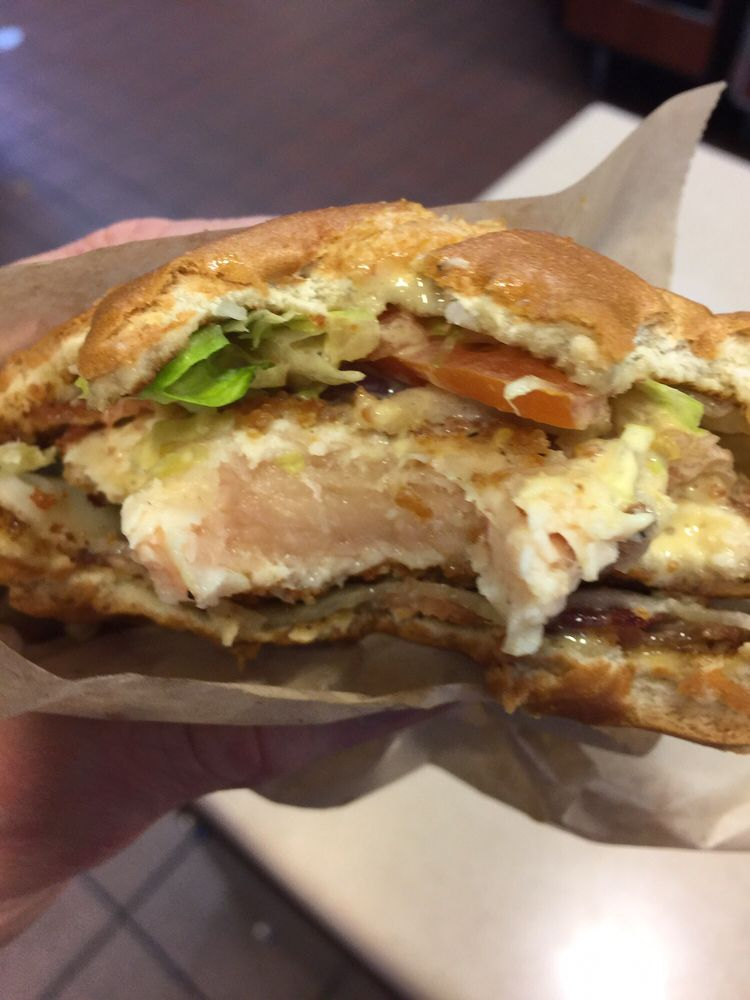bacon: (342, 312, 617, 431)
